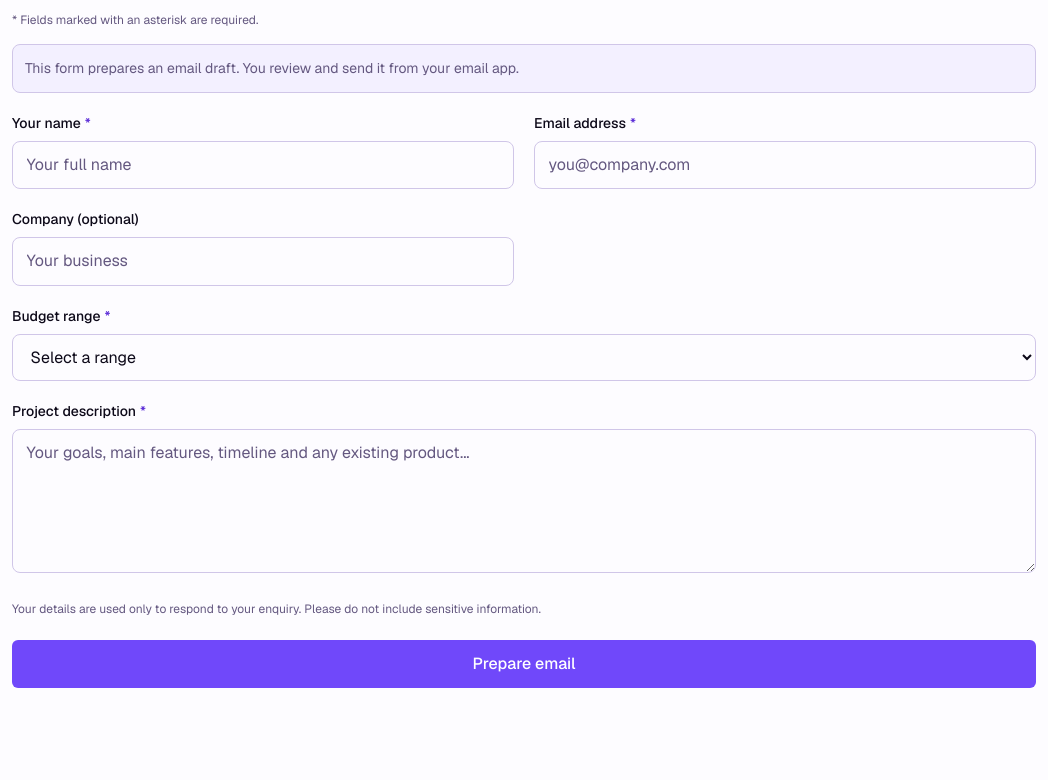
Test: ProjectForm › offers a correctly addressed draft and never claims fallback delivery
Type "Example Visitor" into the field labelled "Your name*" at {"x": 263, "y": 165}, box [12,141,514,189]
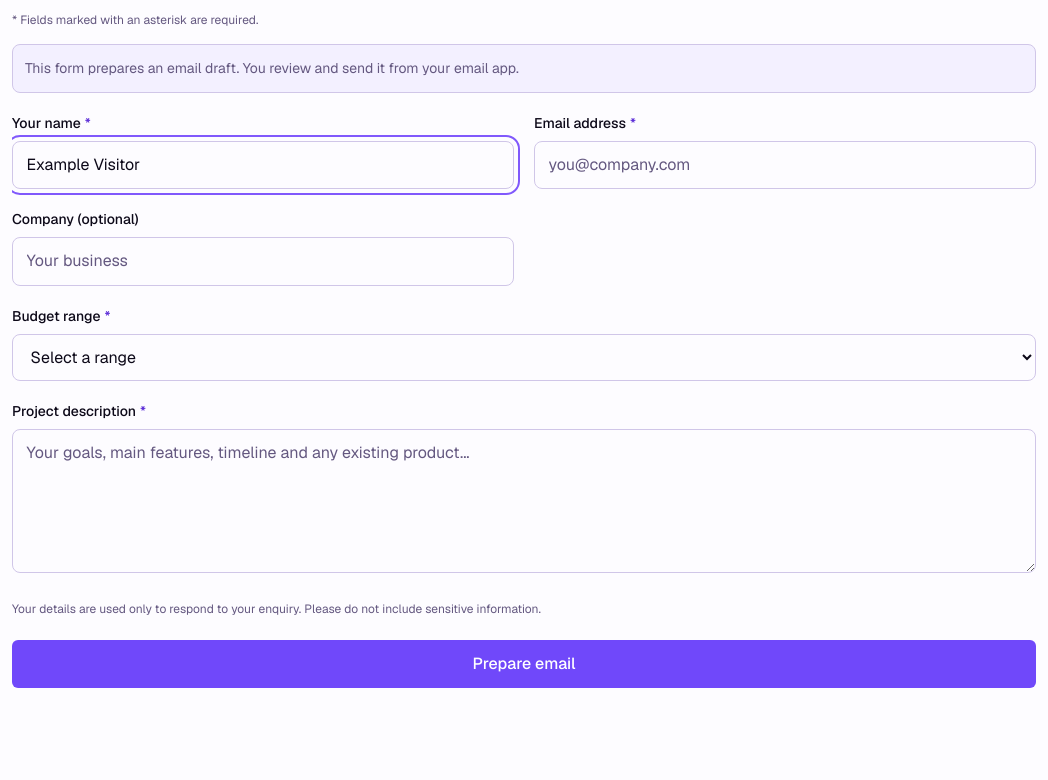
Type "visitor@example.com" into the field labelled "Email address*" at {"x": 785, "y": 165}, box [534,141,1036,189]
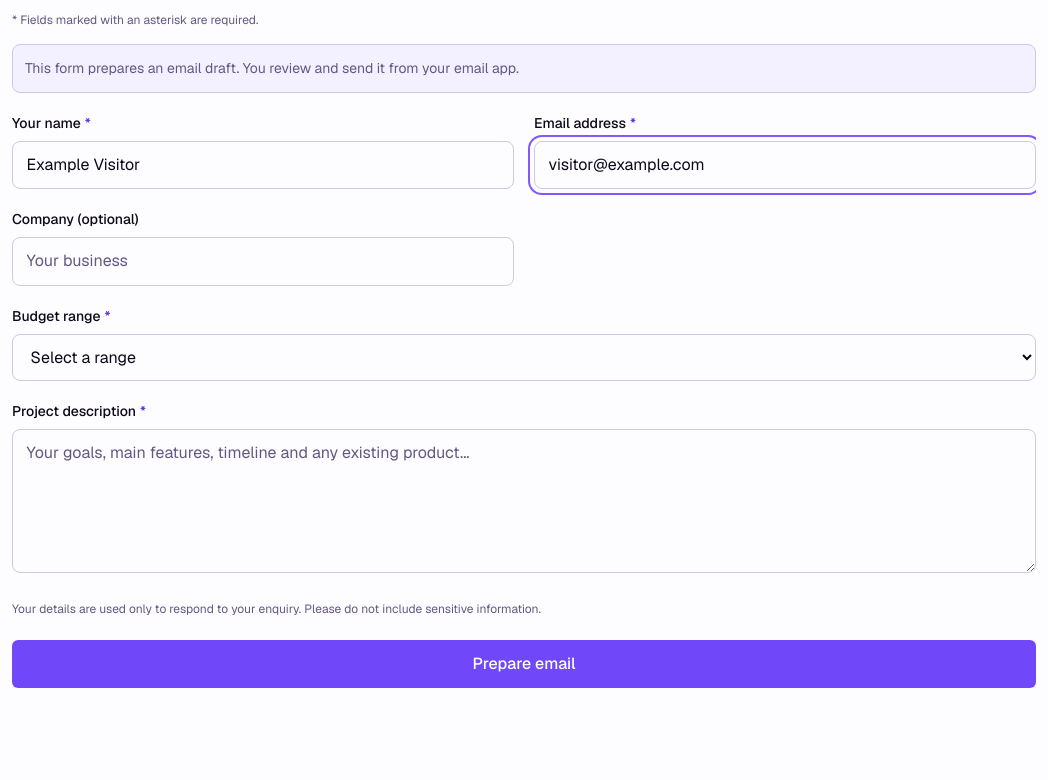
Select "Let’s define it together" in the dropdown labelled "Budget range*" at {"x": 524, "y": 357}, box [12,334,1036,381]
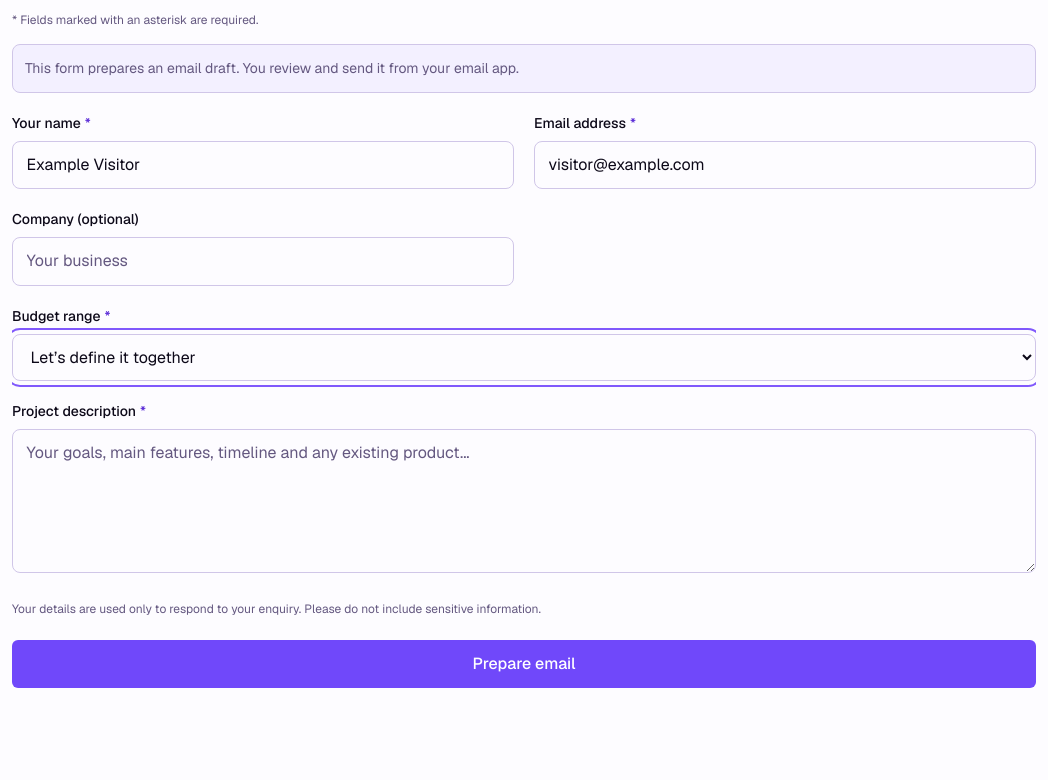
Type "A useful internal business application." into the text box labelled "Project description*" at {"x": 524, "y": 501}, box [12,429,1036,573]
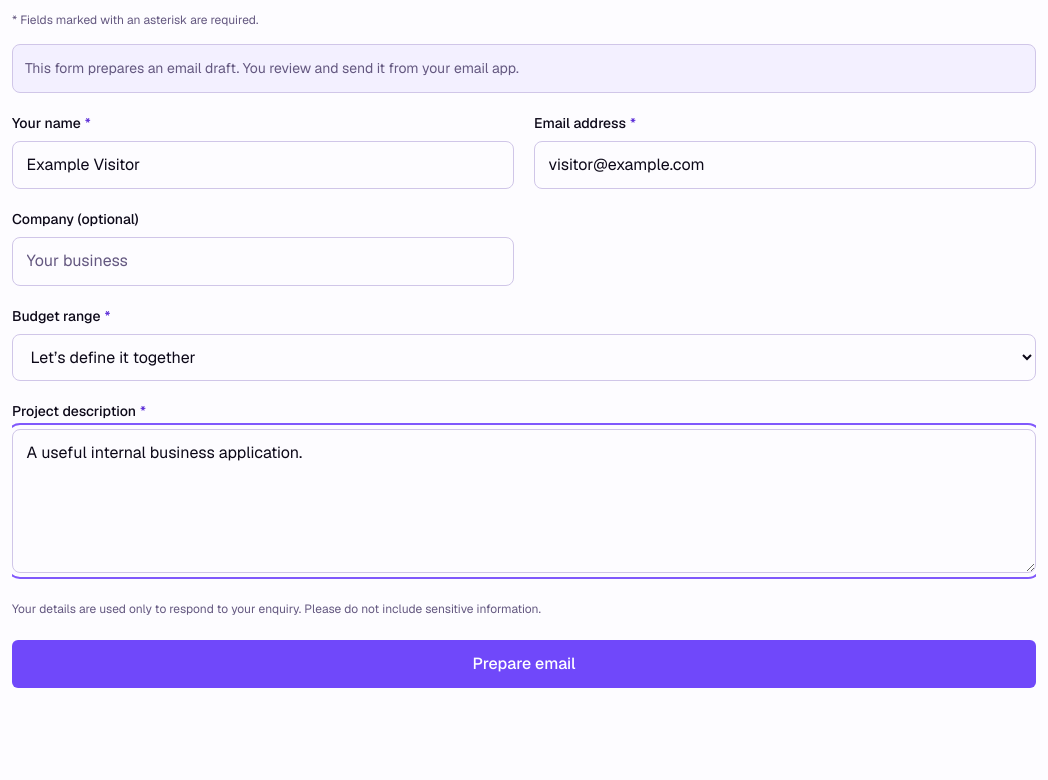
Click the button "Prepare email" at {"x": 524, "y": 664}, box [12,640,1036,688]
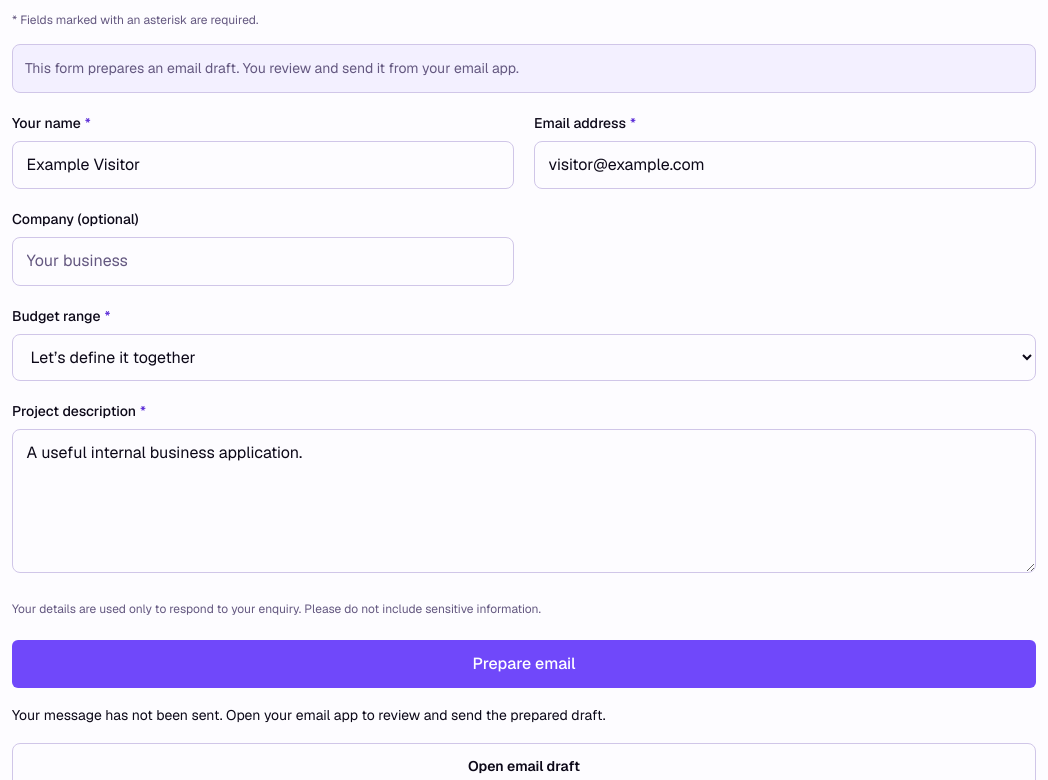
Now the text "has not been sent" is shown, box [12,706,606,724]
